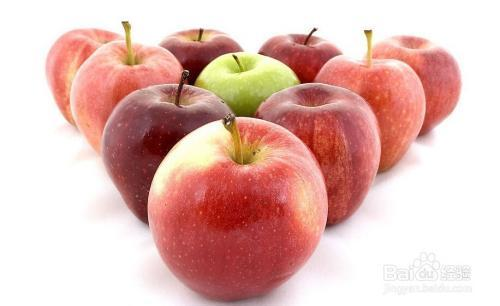apple: (146, 117, 328, 297), (99, 84, 236, 225), (254, 84, 380, 227), (70, 42, 187, 161), (313, 53, 424, 173), (366, 33, 461, 135), (44, 26, 126, 124), (195, 52, 300, 119), (156, 27, 244, 88), (257, 30, 342, 84)
